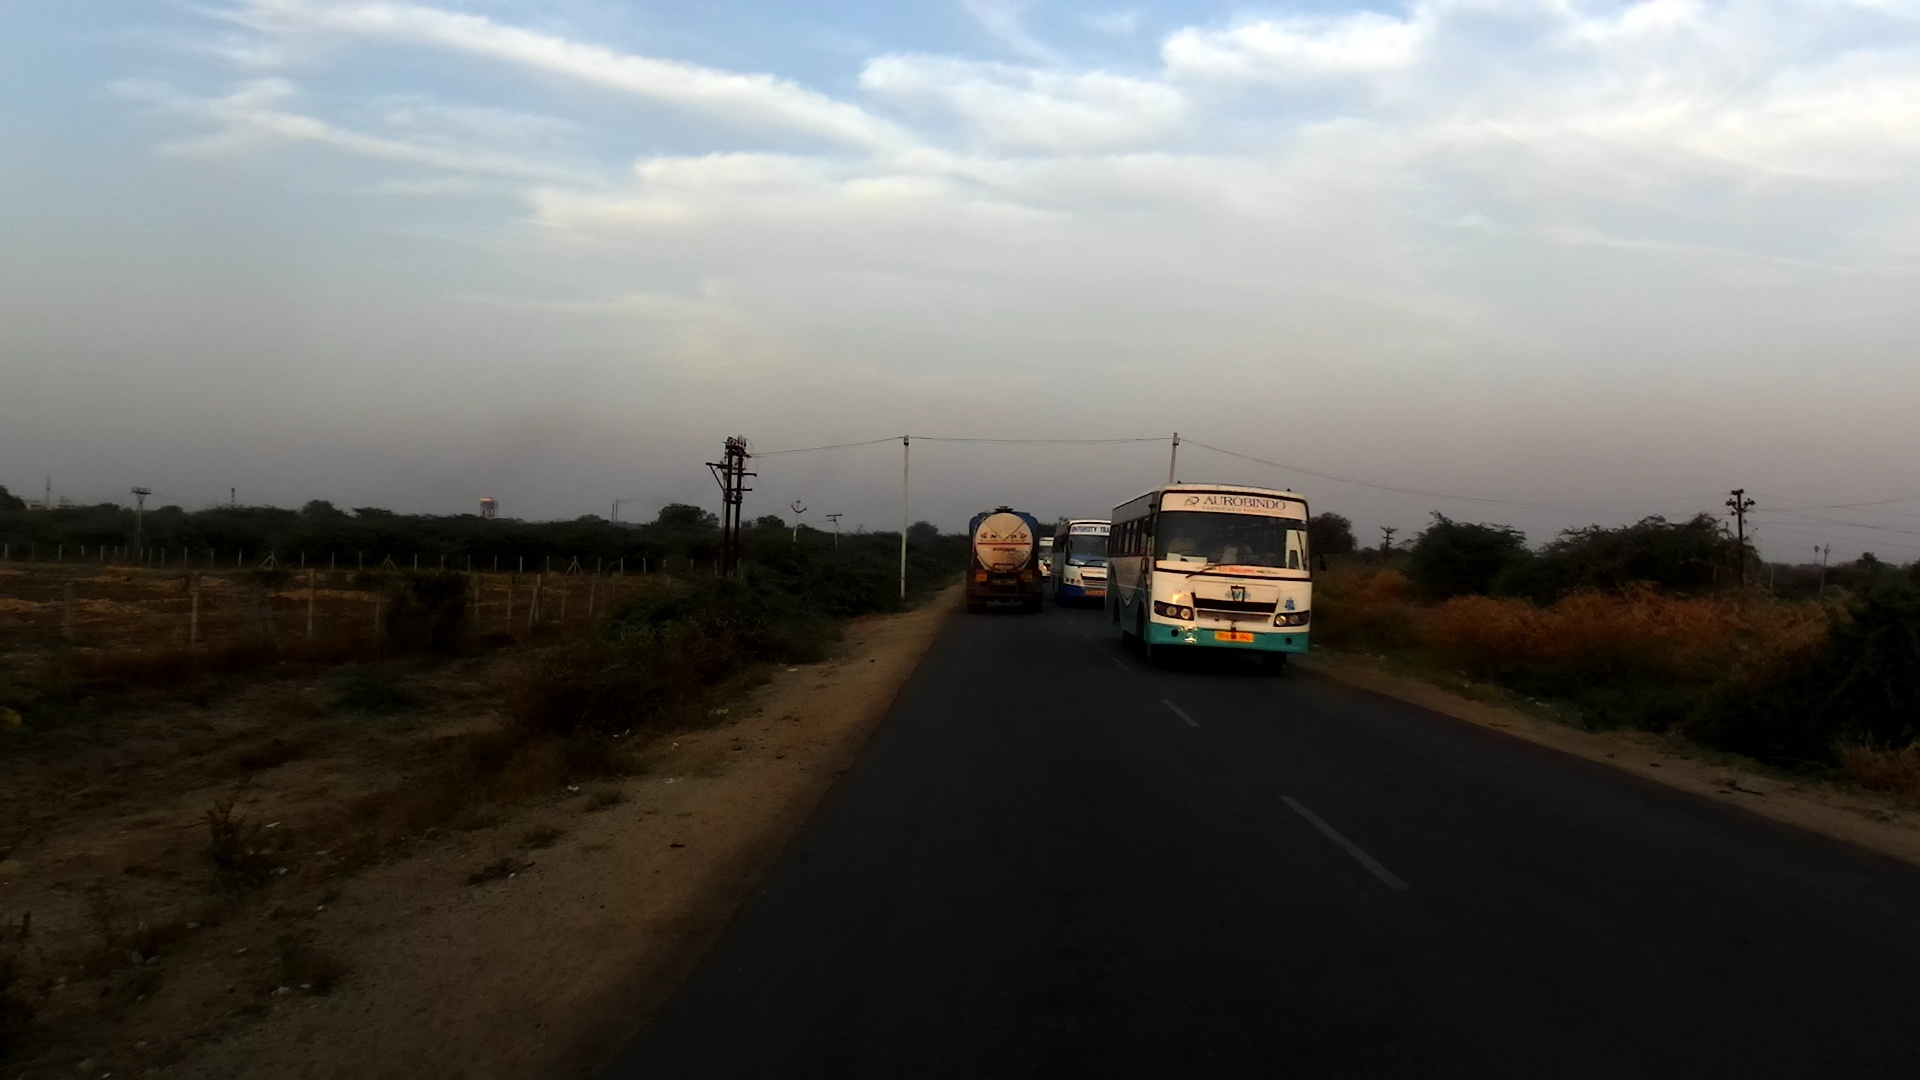bus: (1101, 483, 1313, 682), (1058, 513, 1118, 611), (1036, 535, 1060, 589)
truck: (967, 506, 1052, 617)
